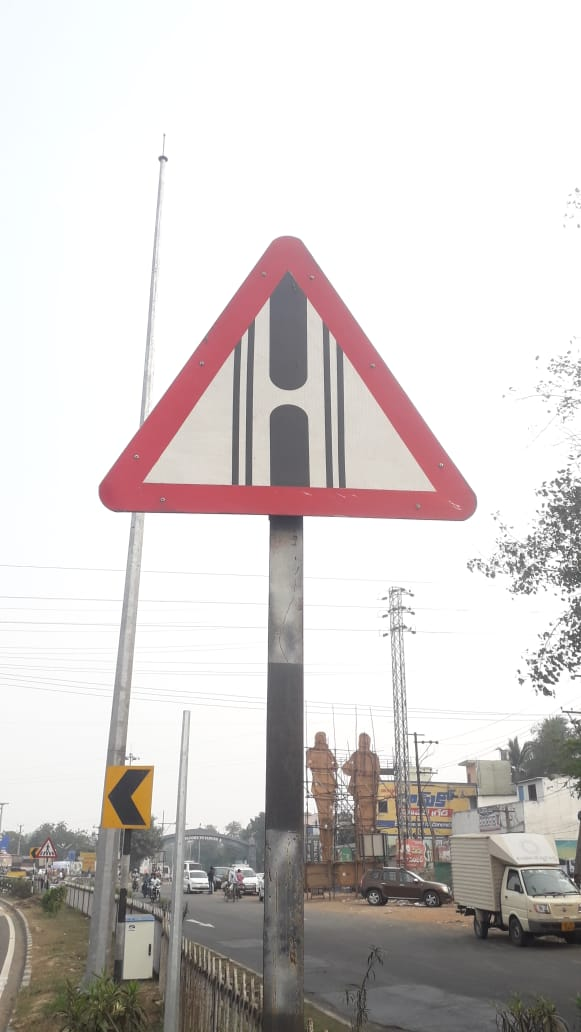highway go straight: (103, 218, 477, 550)
